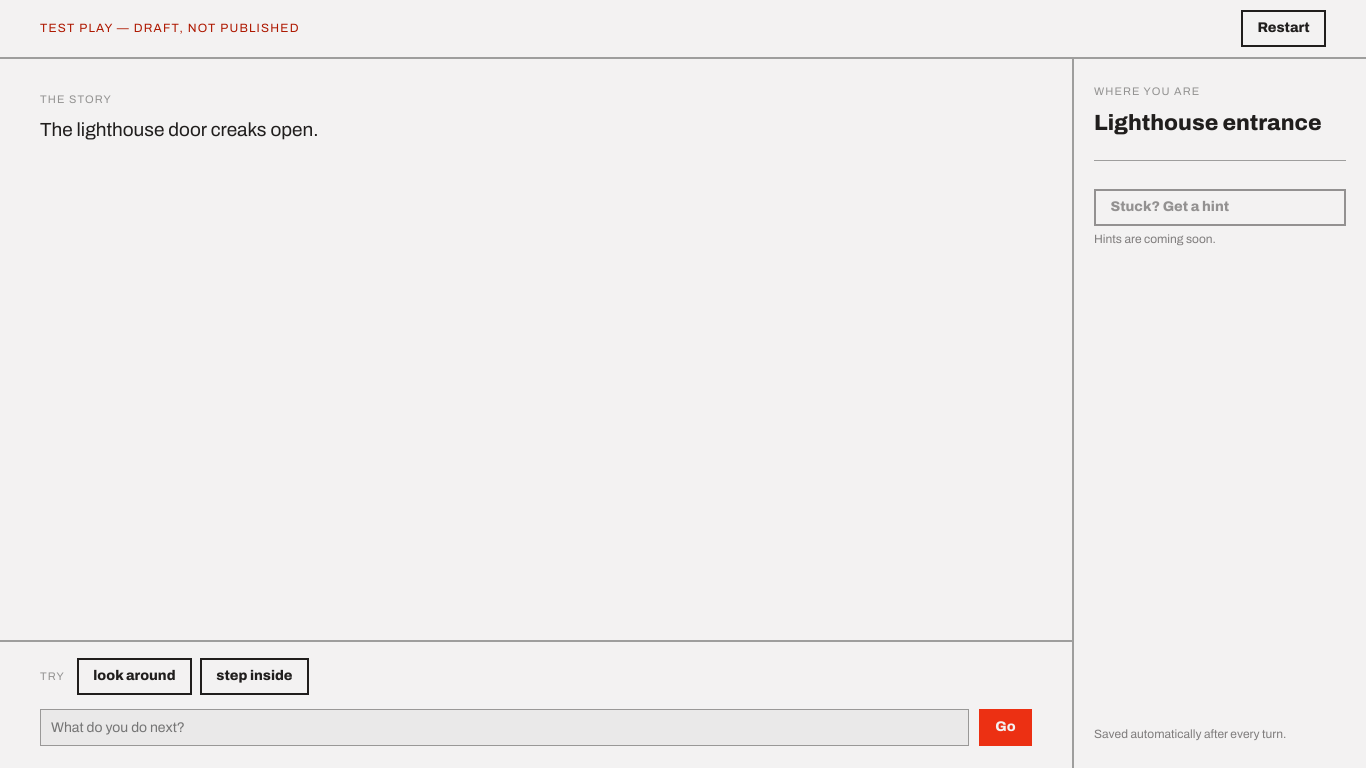
Scenario: AdminStoryTestPlayPage (010-story-test-play-done) › shows the conclusion screen when a response returns status concluded (FR-006)
Expected: the text "The lighthouse door creaks open." is shown, [40,119,318,140]
Type "find the keeper" into the field labelled "What do you do next?" at (504, 728), box [40,709,969,746]
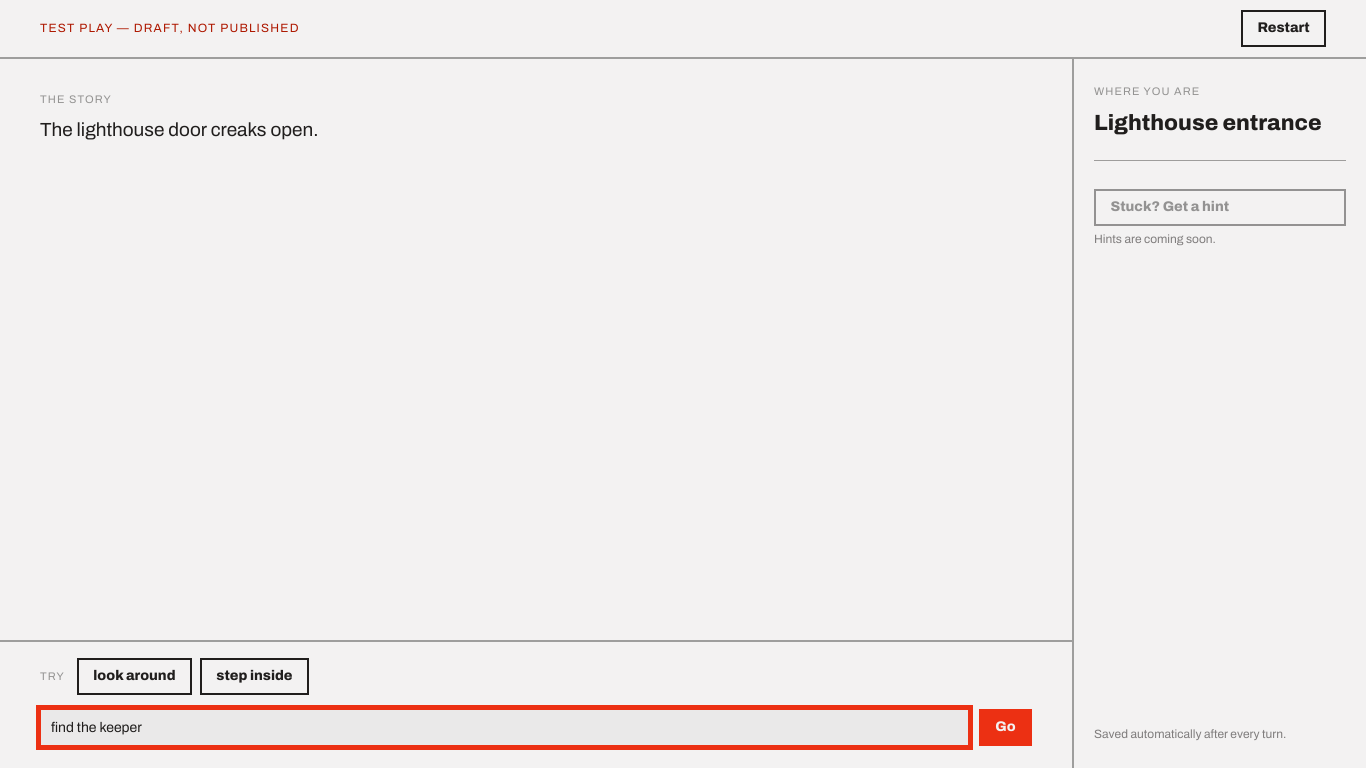
Click the button "Go" at (1005, 728), box [979,709,1032,746]
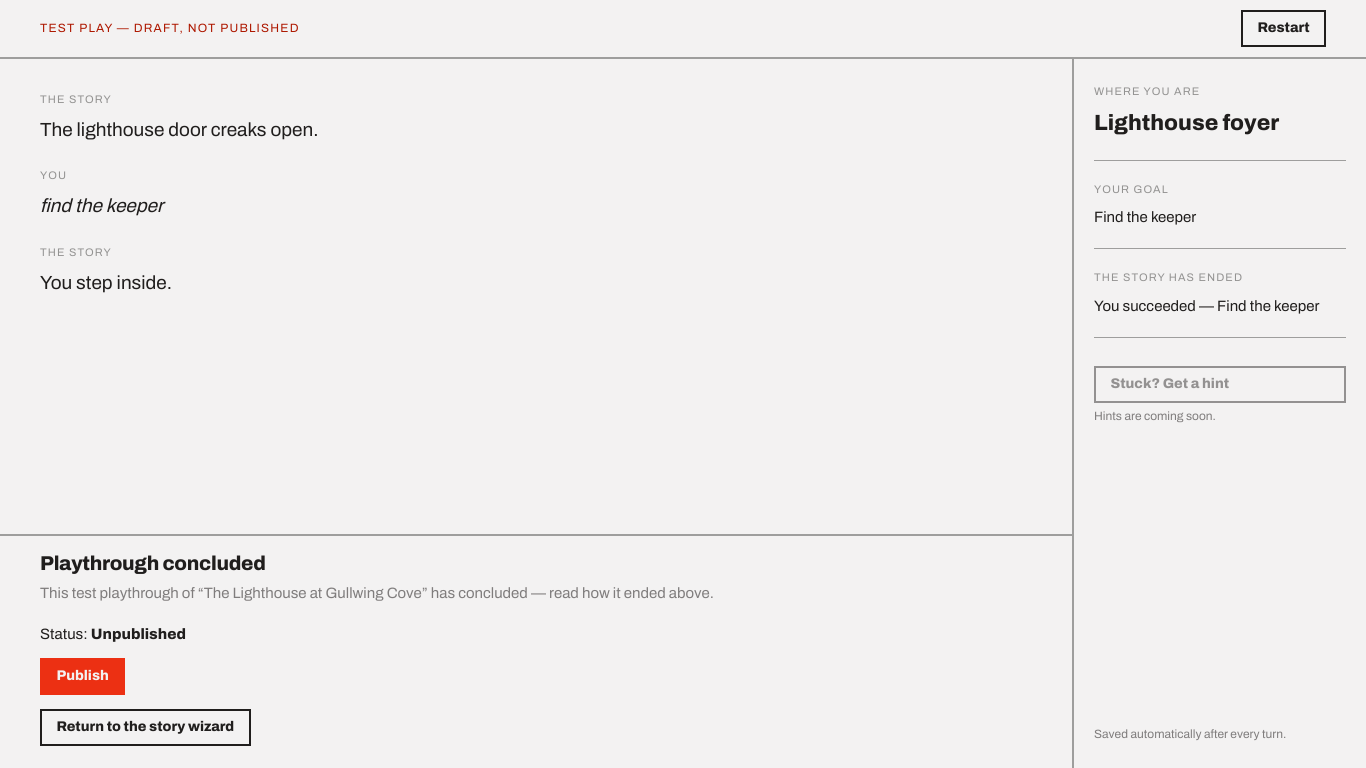
Now the heading "Playthrough concluded" is shown, box [40,552,266,574]
Now the button "Publish" is shown, box [40,658,125,695]
Now the button "Return to the story wizard" is shown, box [40,709,251,746]
